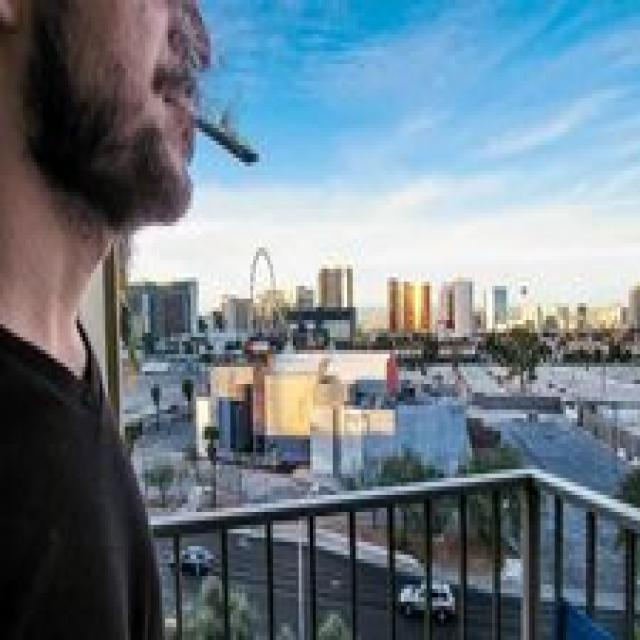cigarette: (165, 90, 265, 170)
